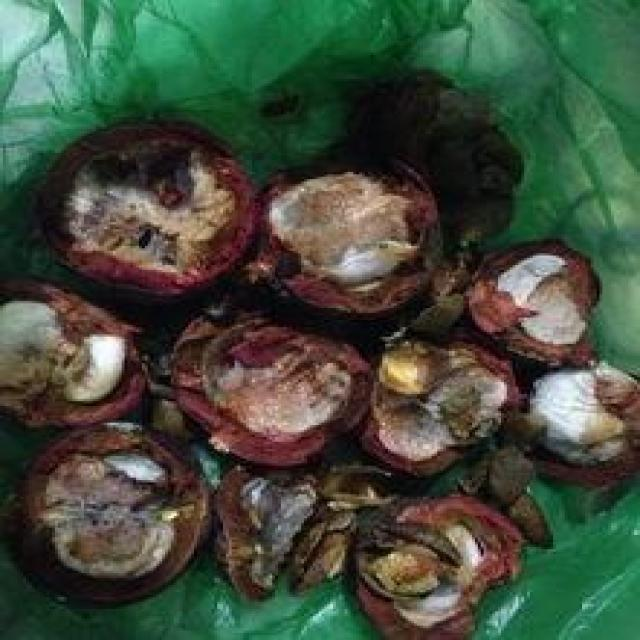Wet: (3, 112, 634, 635)
